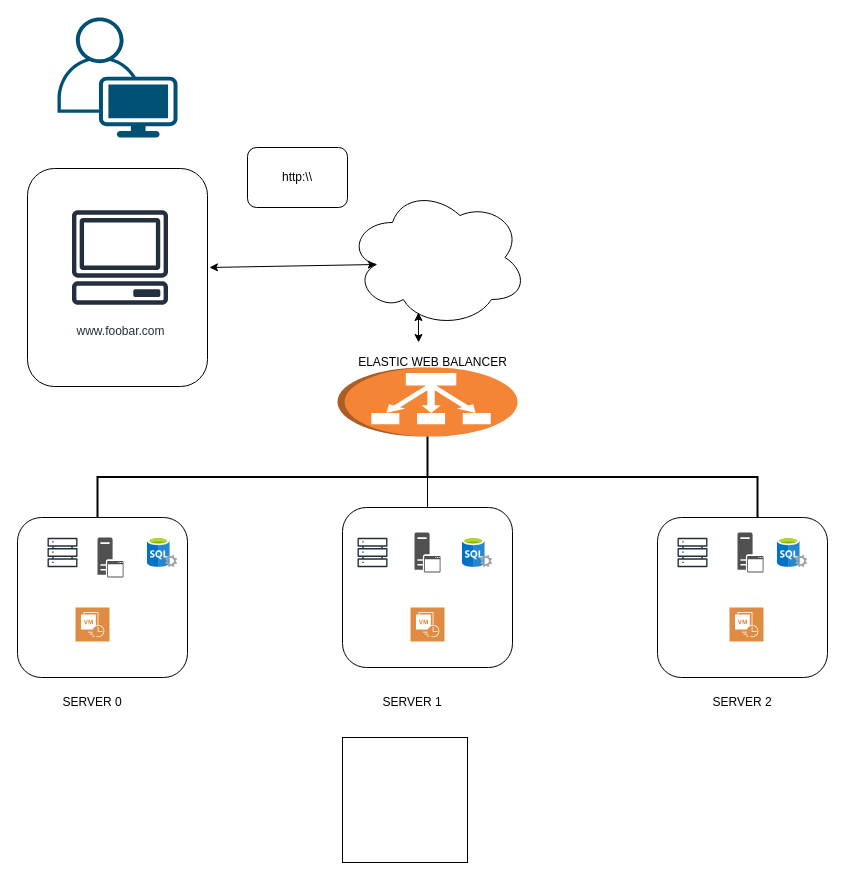
This 845x880 diagram has some shape labels left out. Each missing label, with the centre of its shape:
DNS: (www.foobar.com) ip address: 8.8.8.8: (437,257)
Web Server (NGNX) App Server (Python) DataBase(SQL) CODEBASE: (405,799)
